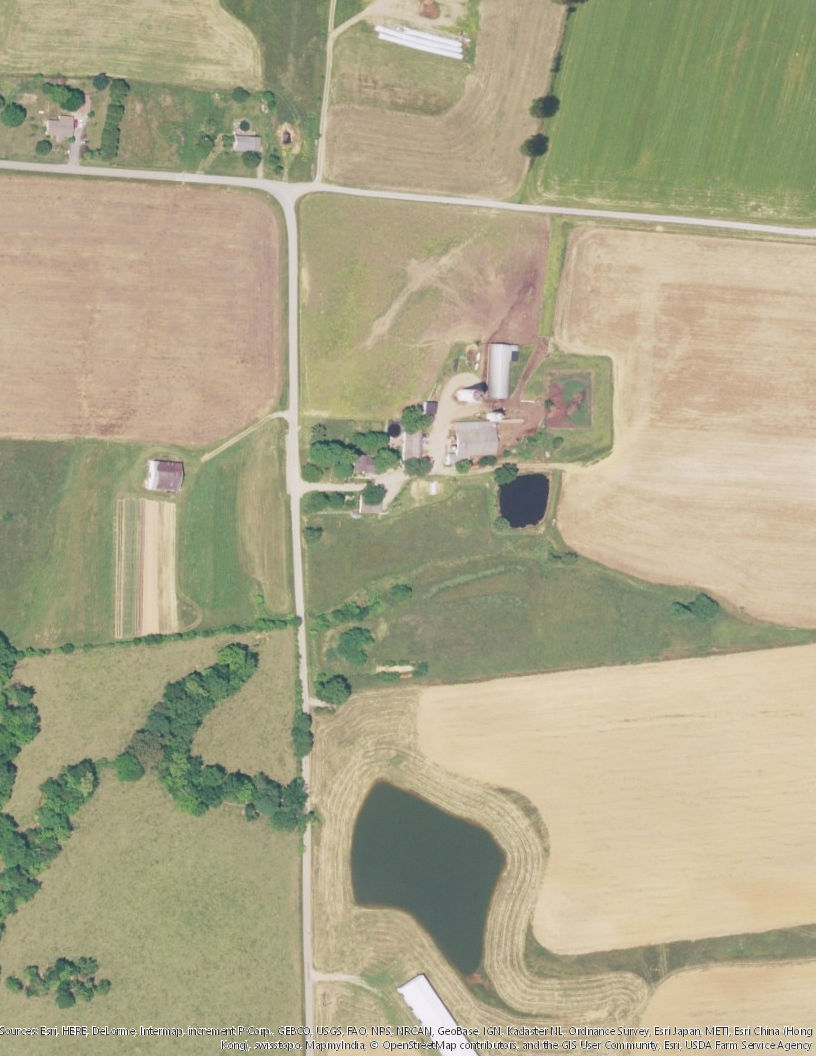cafo: (449, 419, 504, 462), (485, 338, 522, 401)
